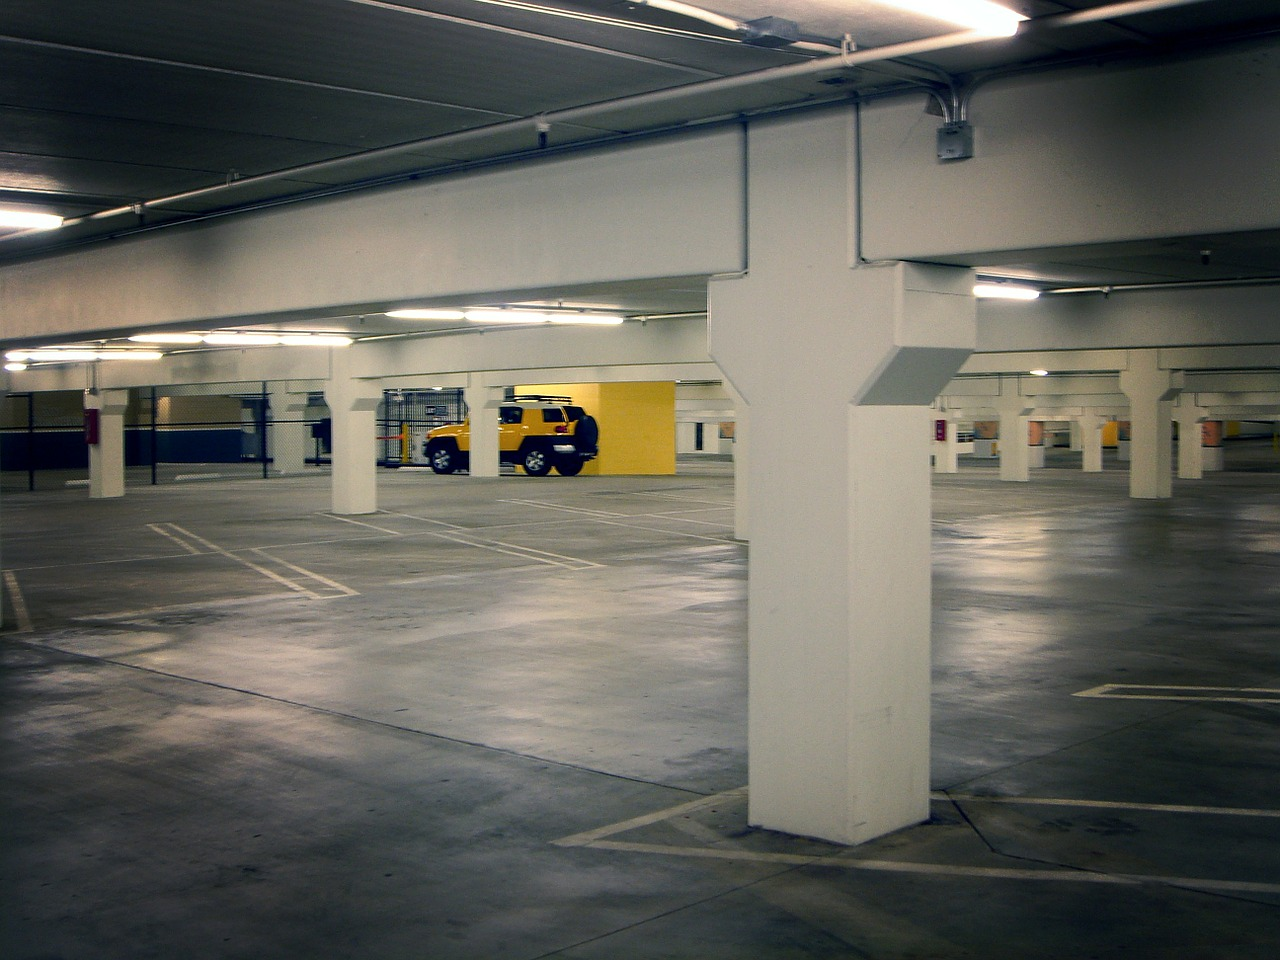empyt_space: (7, 543, 346, 631), (243, 528, 595, 597), (5, 507, 220, 569), (463, 517, 734, 563), (151, 507, 404, 553), (377, 486, 621, 531), (520, 489, 722, 524)
